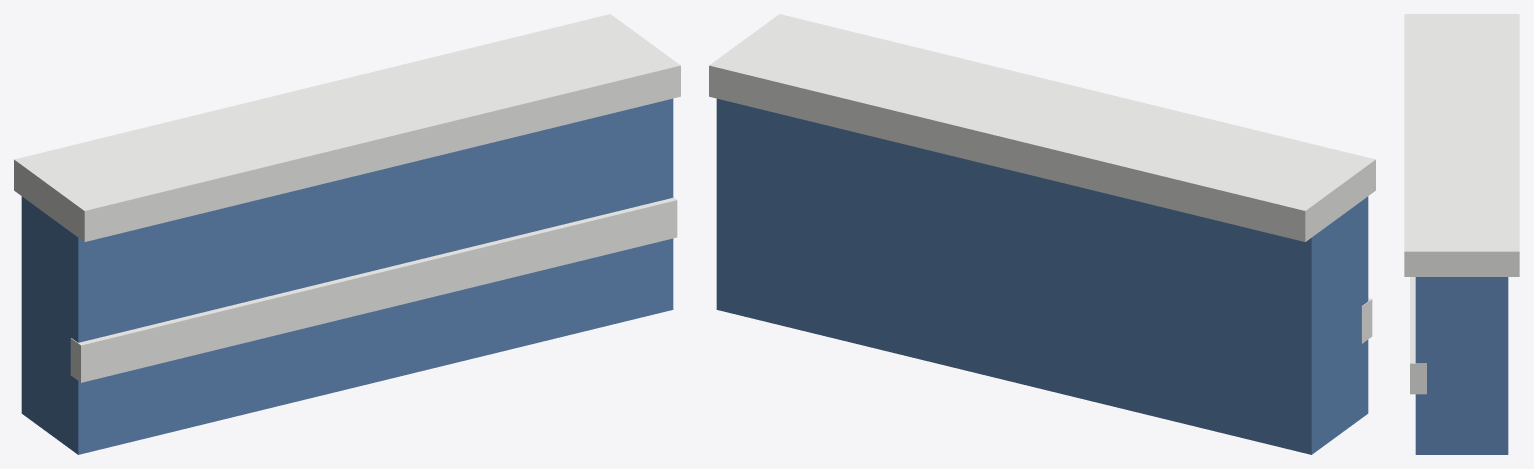
Rendered from parapet.glb.
The picture shows the model from 3 angles, left to right: view 1: azimuth 30°, elevation 25°; view 2: azimuth 150°, elevation 25°; view 3: azimuth 270°, elevation 25°; orthographic projection. The views are drawn at different scales.
Parts seen in each view (by area): view 1: parapet_band, parapet_trim; view 2: parapet_band, parapet_trim; view 3: parapet_trim, parapet_band.
Part boxes in pixels (bbox=[...]): parapet_band: bbox=[21, 98, 673, 454]; parapet_trim: bbox=[14, 14, 680, 382]; parapet_band: bbox=[716, 98, 1368, 454]; parapet_trim: bbox=[709, 14, 1375, 343]; parapet_trim: bbox=[1404, 14, 1519, 394]; parapet_band: bbox=[1415, 277, 1508, 454].
Size of the model in its own units: 2 by 0.8 by 0.41.
